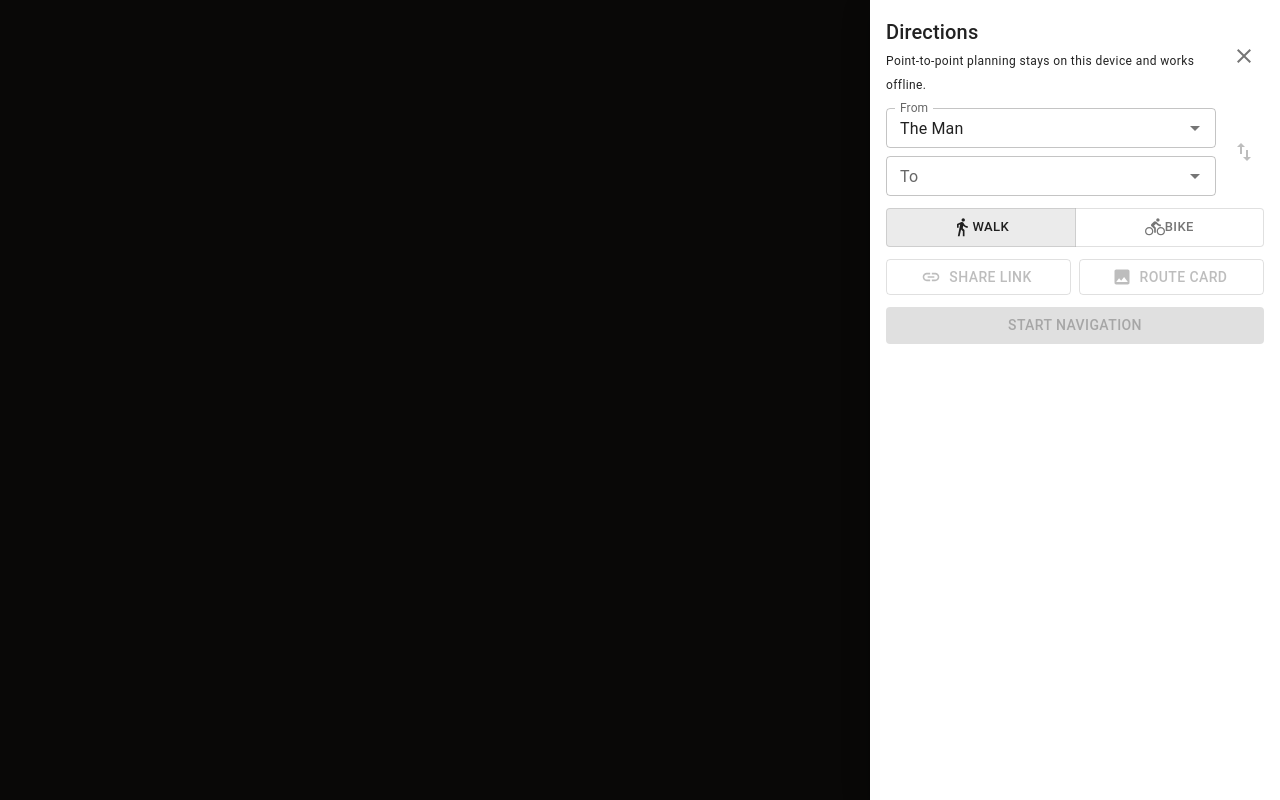
it: DirectionsPanel › offers an event whose other_location is a conservatively geocoded playa address (#136)
The image size is (1280, 800).
In the dropdown labelled "To": (1034, 176) [892,162,1177,190], type "Open Playa Meetup"
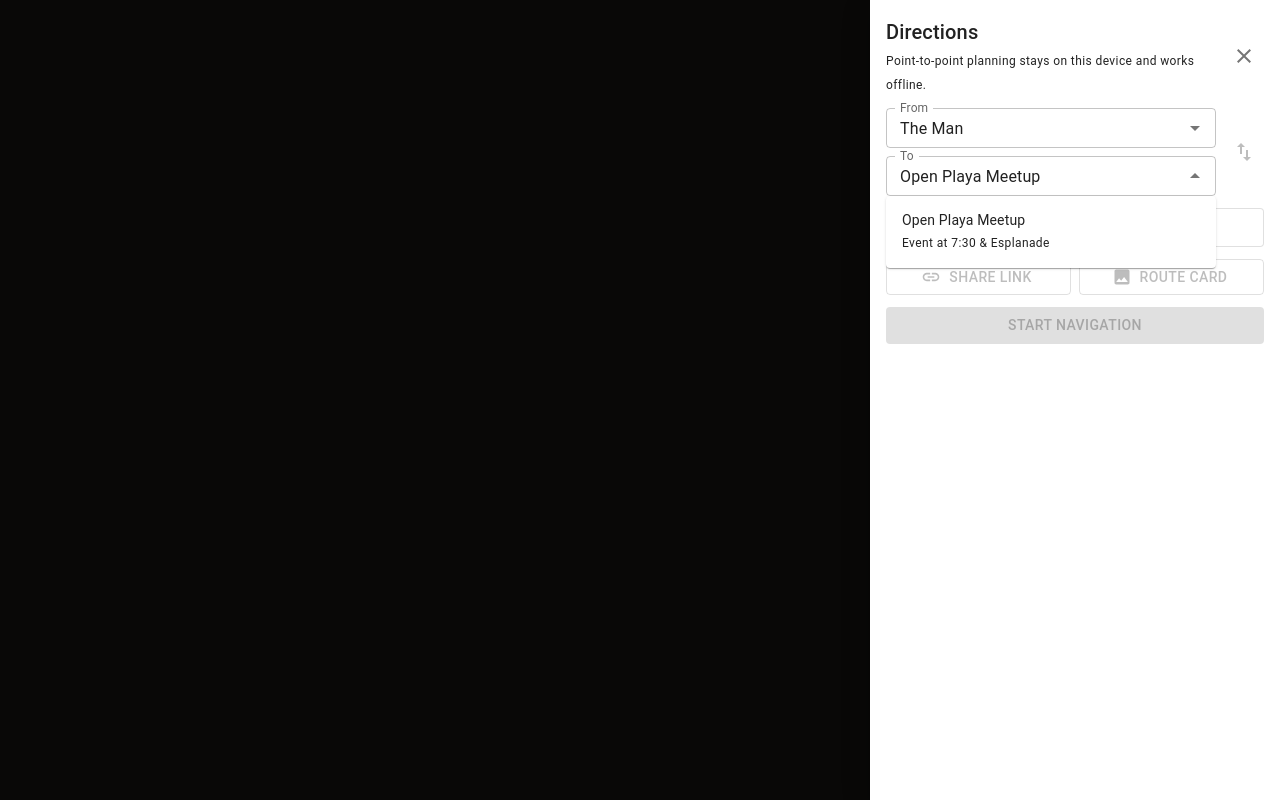
Result: the option "Open Playa Meetup Event at 7:30 & Esplanade" is shown at [902,212,1050,250]
